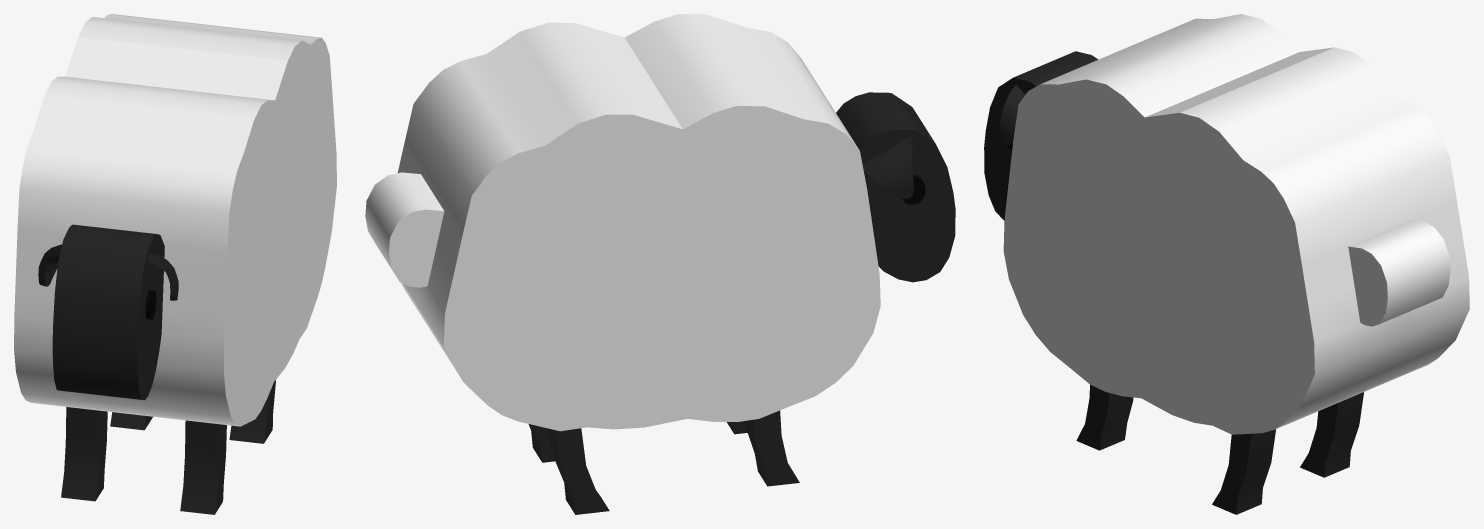
The model's file is ewe.fbx.
The picture shows the model from 3 angles, left to right: view 1: azimuth 30°, elevation 25°; view 2: azimuth 150°, elevation 25°; view 3: azimuth 270°, elevation 25°; orthographic projection. The views are drawn at different scales.
Parts seen in each view (by area): view 1: Plane.123, Cube.6236; view 2: Plane.123, Cube.6236; view 3: Plane.123, Cube.6236.
Boxes of the visible parts, x1,y1,x2,y2 form: Plane.123: (14,14,336,514); Cube.6236: (38,244,178,300); Plane.123: (365,14,955,514); Cube.6236: (862,136,914,198); Plane.123: (984,14,1469,514); Cube.6236: (999,85,1025,145).
Bounding box in the file's own units: 222 × 201 × 222.
Materials: 1 (1 with a texture image).
